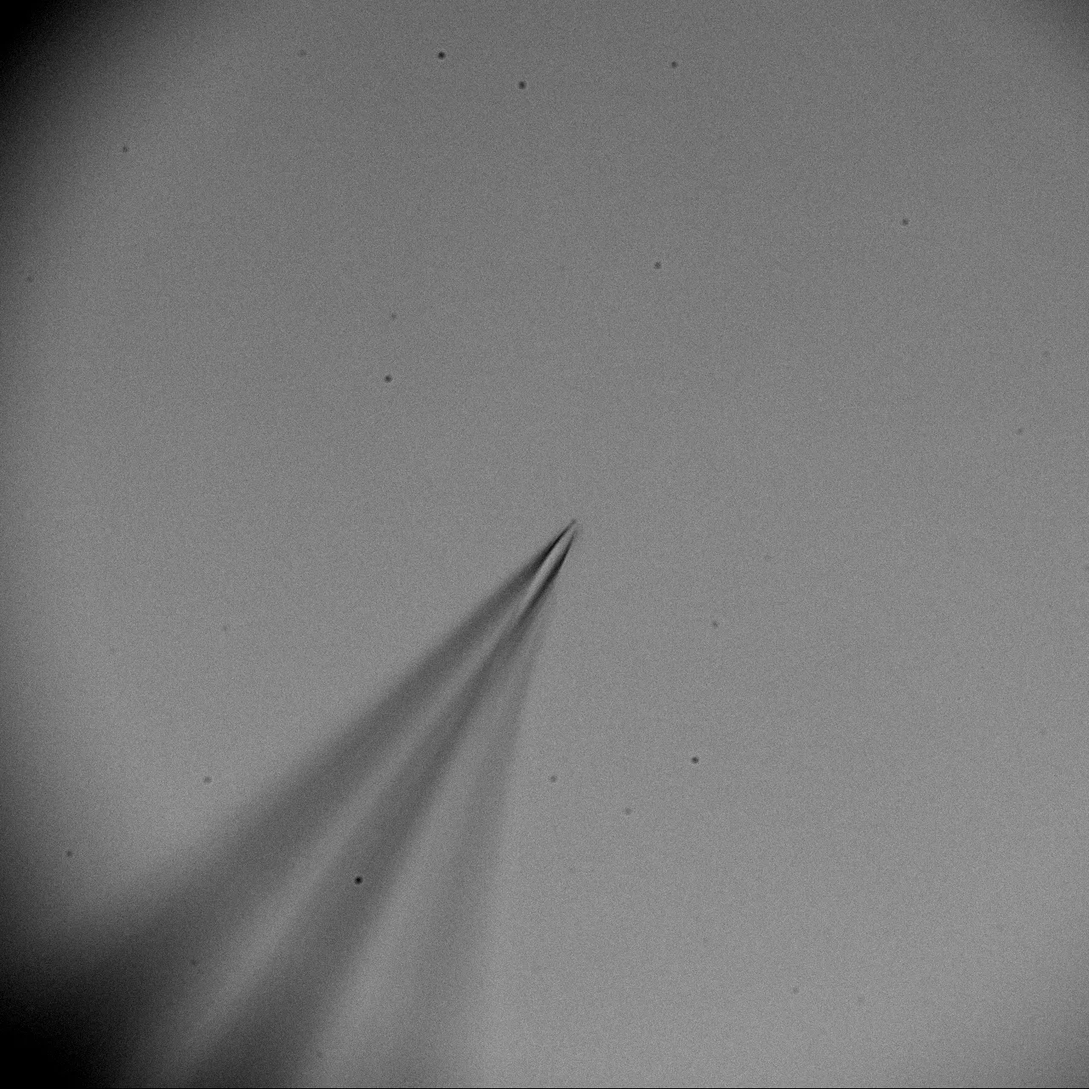tip: (506, 505, 586, 626)
